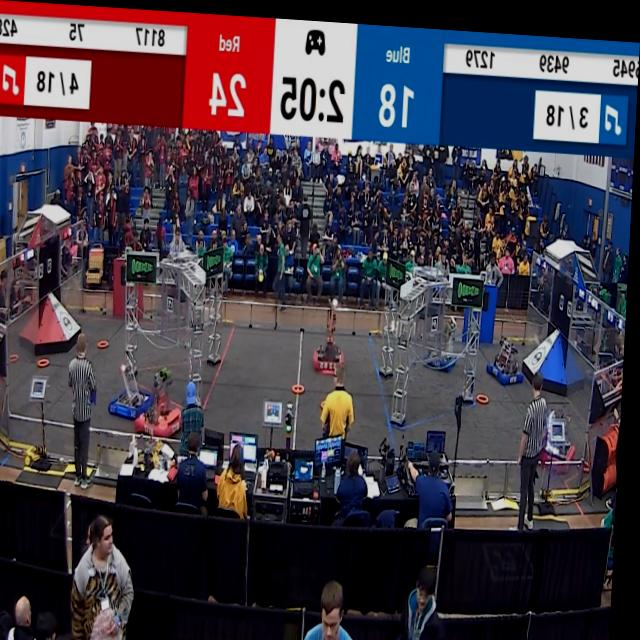Robot: (143, 352, 191, 439), (113, 349, 157, 424), (539, 394, 582, 470), (427, 300, 465, 368), (315, 310, 352, 376), (492, 327, 531, 383)
